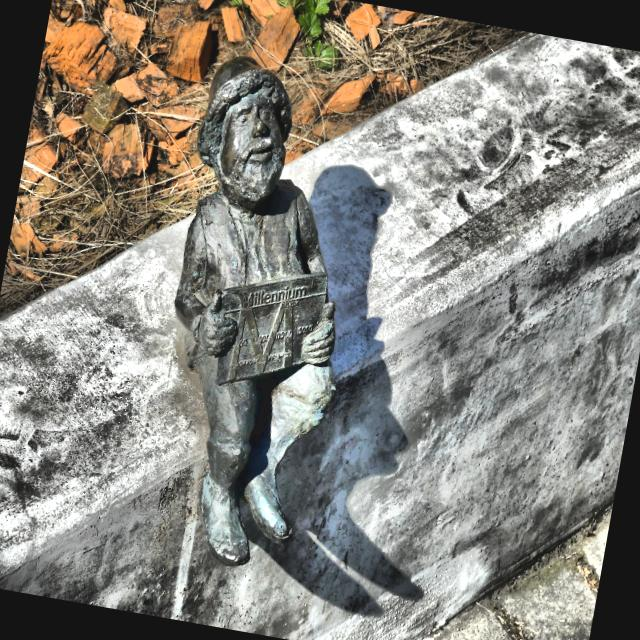Krasnal_Millenniowski: (173, 58, 335, 568)
